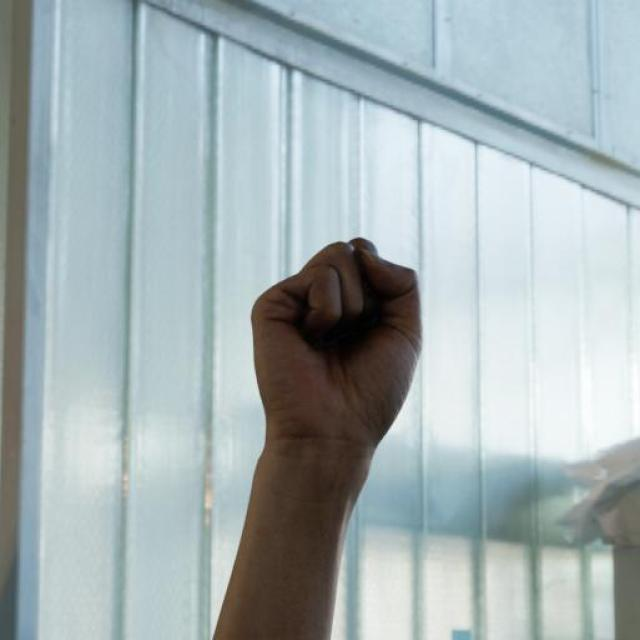S: (244, 234, 430, 468)
